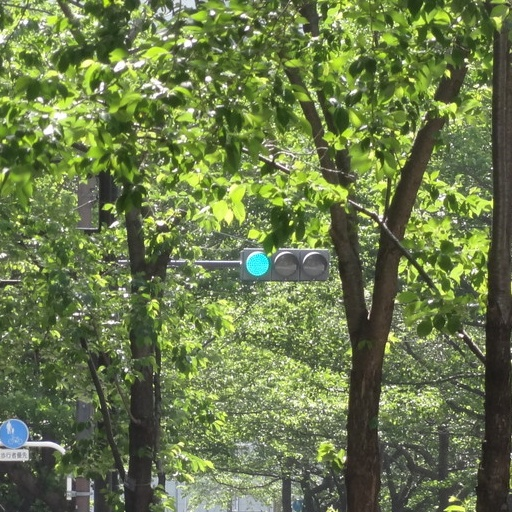Traffic_Signal_Blue: (239, 248, 334, 280)
